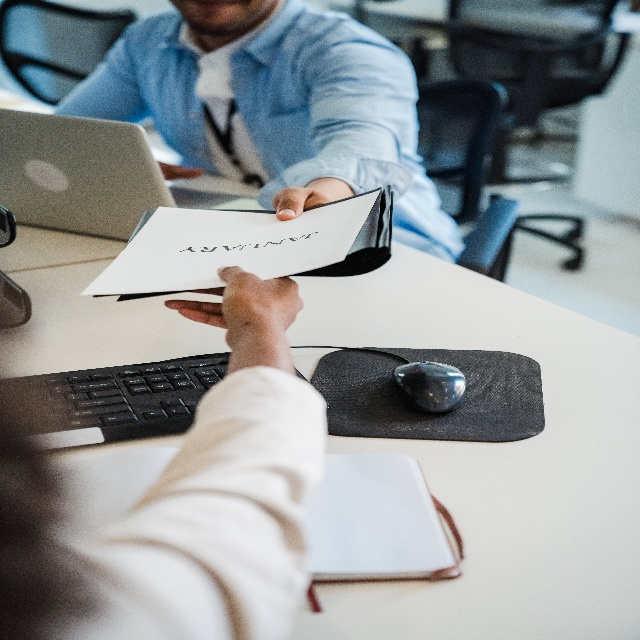Sin_guantes: (163, 264, 304, 351), (272, 186, 330, 221)
